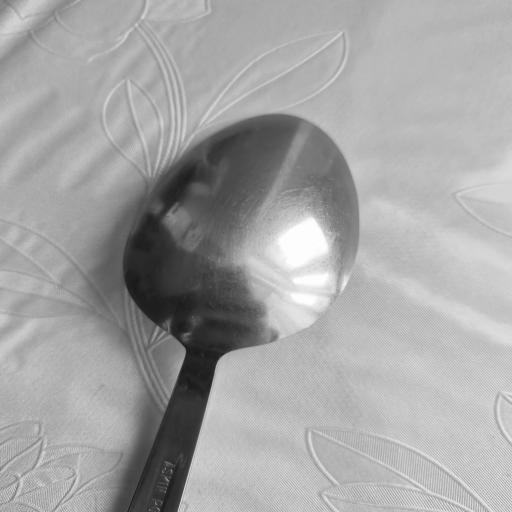spoon: (119, 115, 362, 512)
